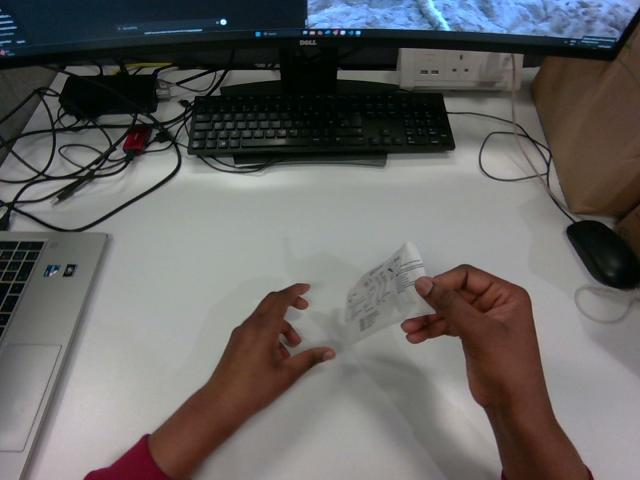syringe: (345, 242, 433, 342)
